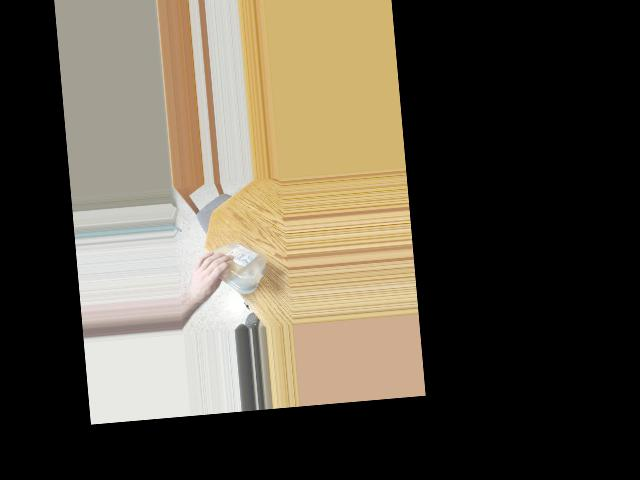cheese: (199, 238, 270, 294)
